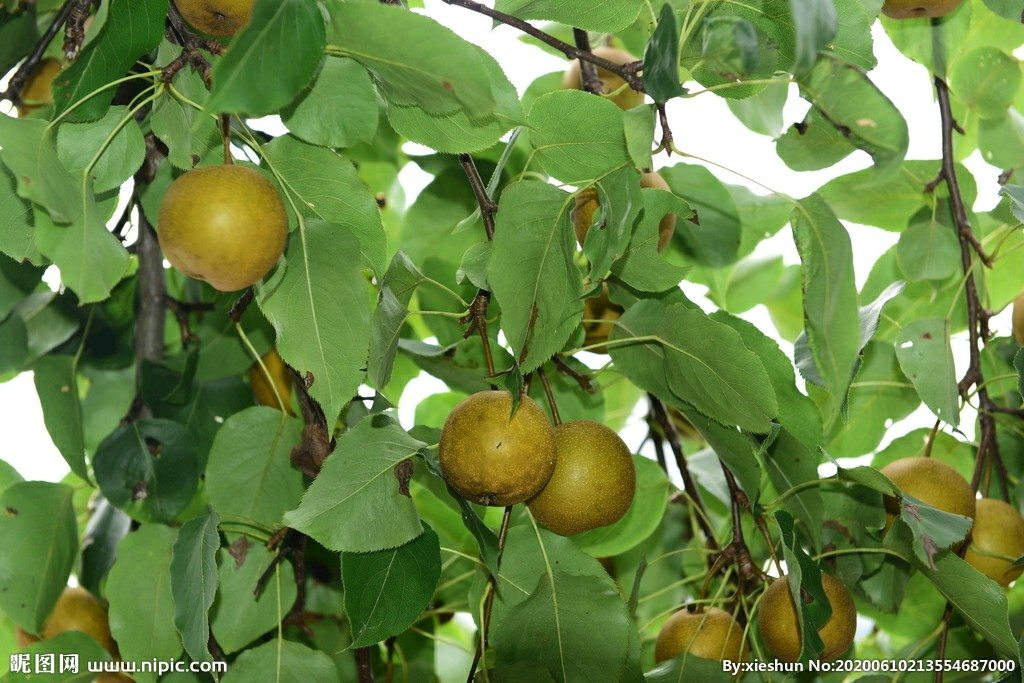pear: (158, 167, 284, 293), (439, 392, 561, 504), (524, 417, 635, 534), (753, 570, 861, 669), (870, 454, 978, 553), (570, 161, 678, 259), (11, 580, 116, 660), (649, 602, 753, 682), (558, 46, 647, 130), (947, 493, 1023, 591)
